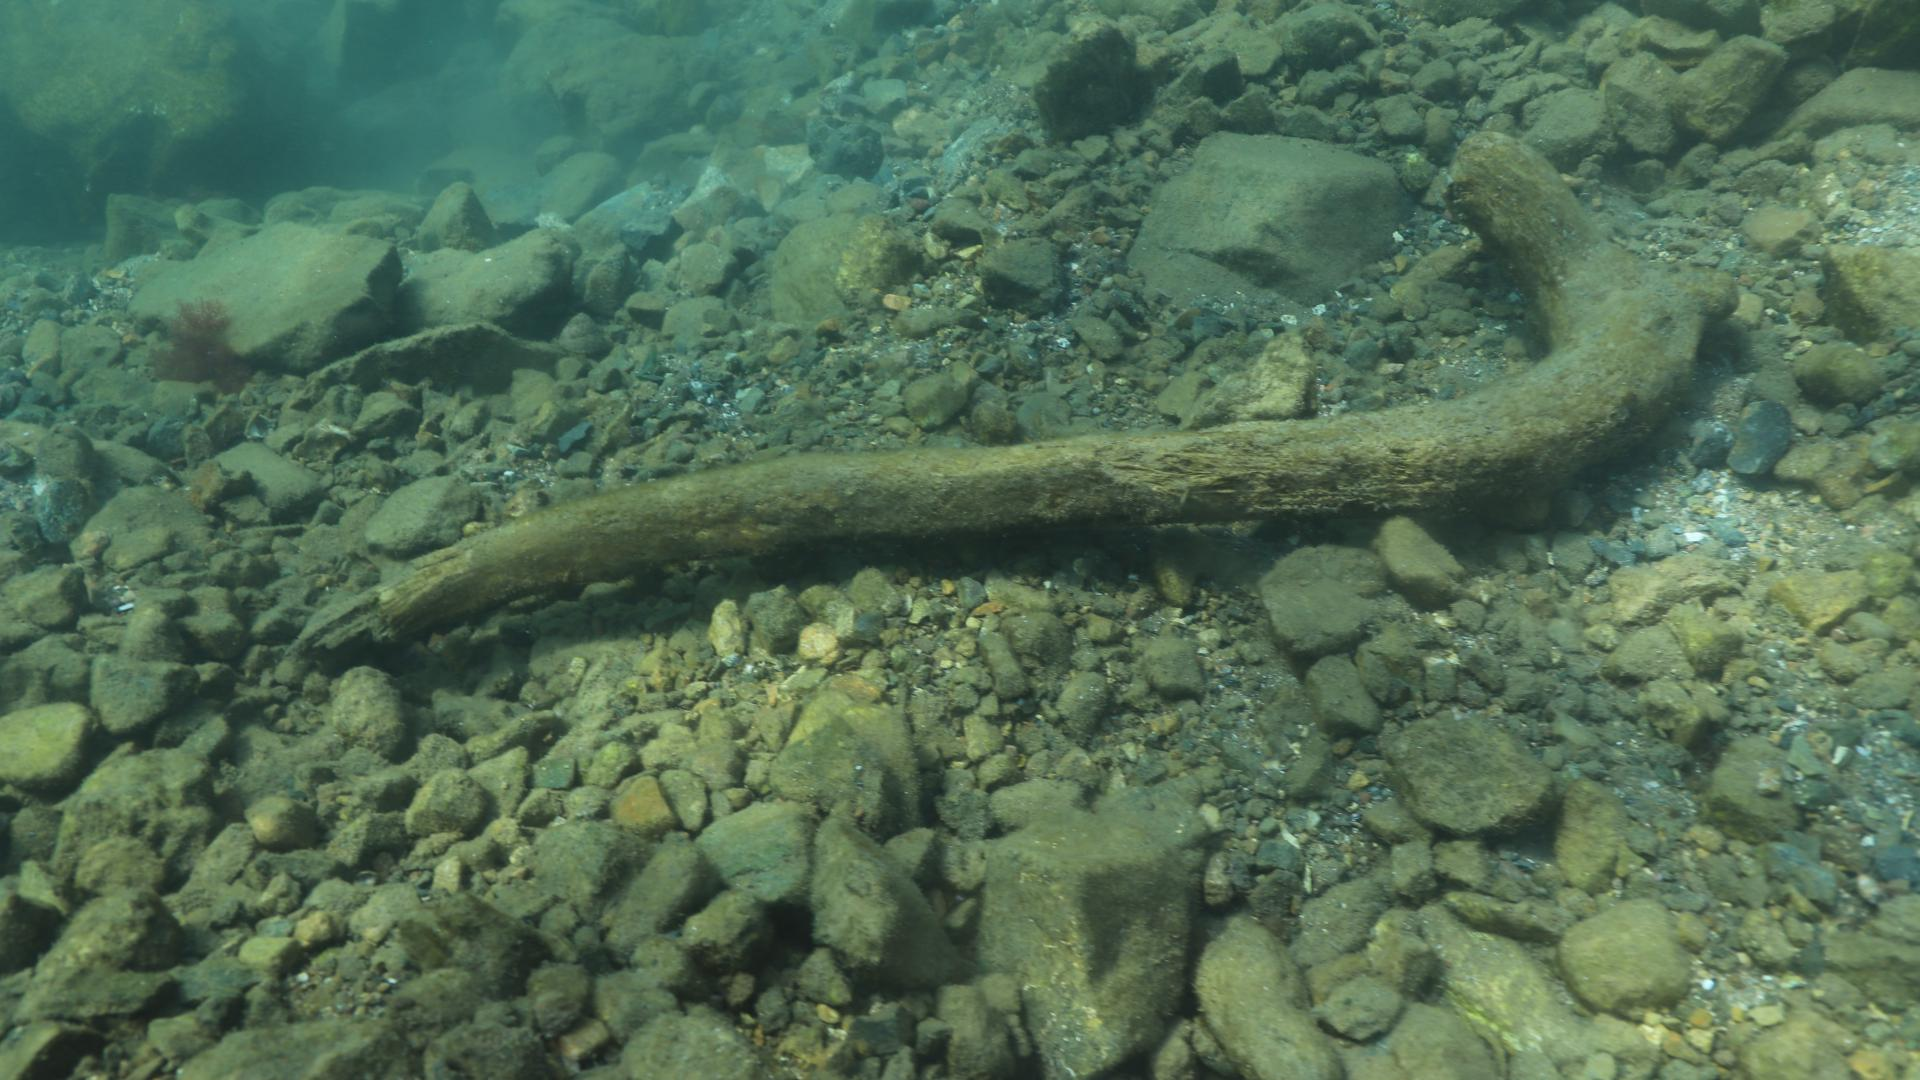wood: (295, 128, 1742, 650)
